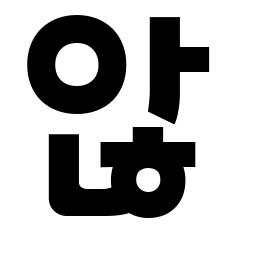Gaji: (135, 35, 198, 87)
